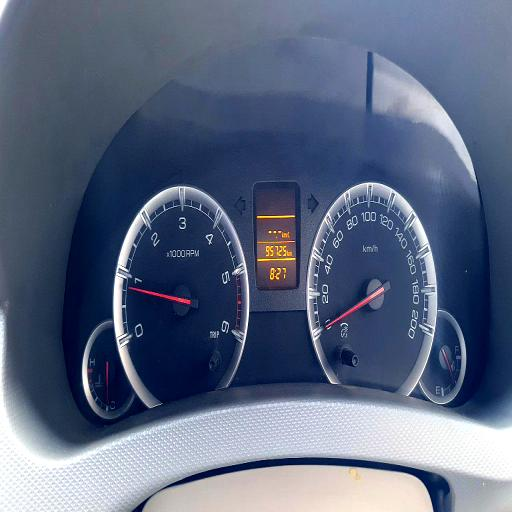tachometer: (115, 184, 249, 406)
